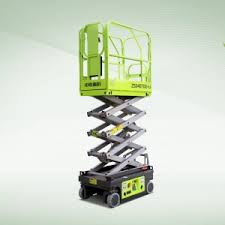Scissor Lift: (77, 21, 156, 207)
